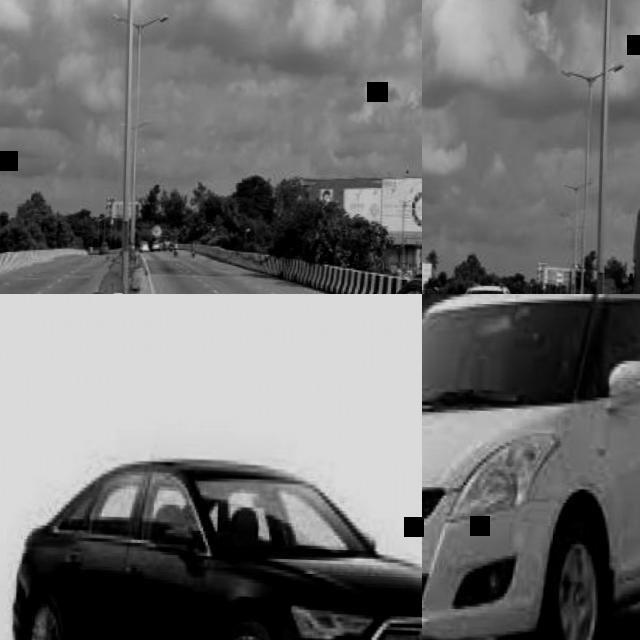car: (418, 256, 639, 639)
